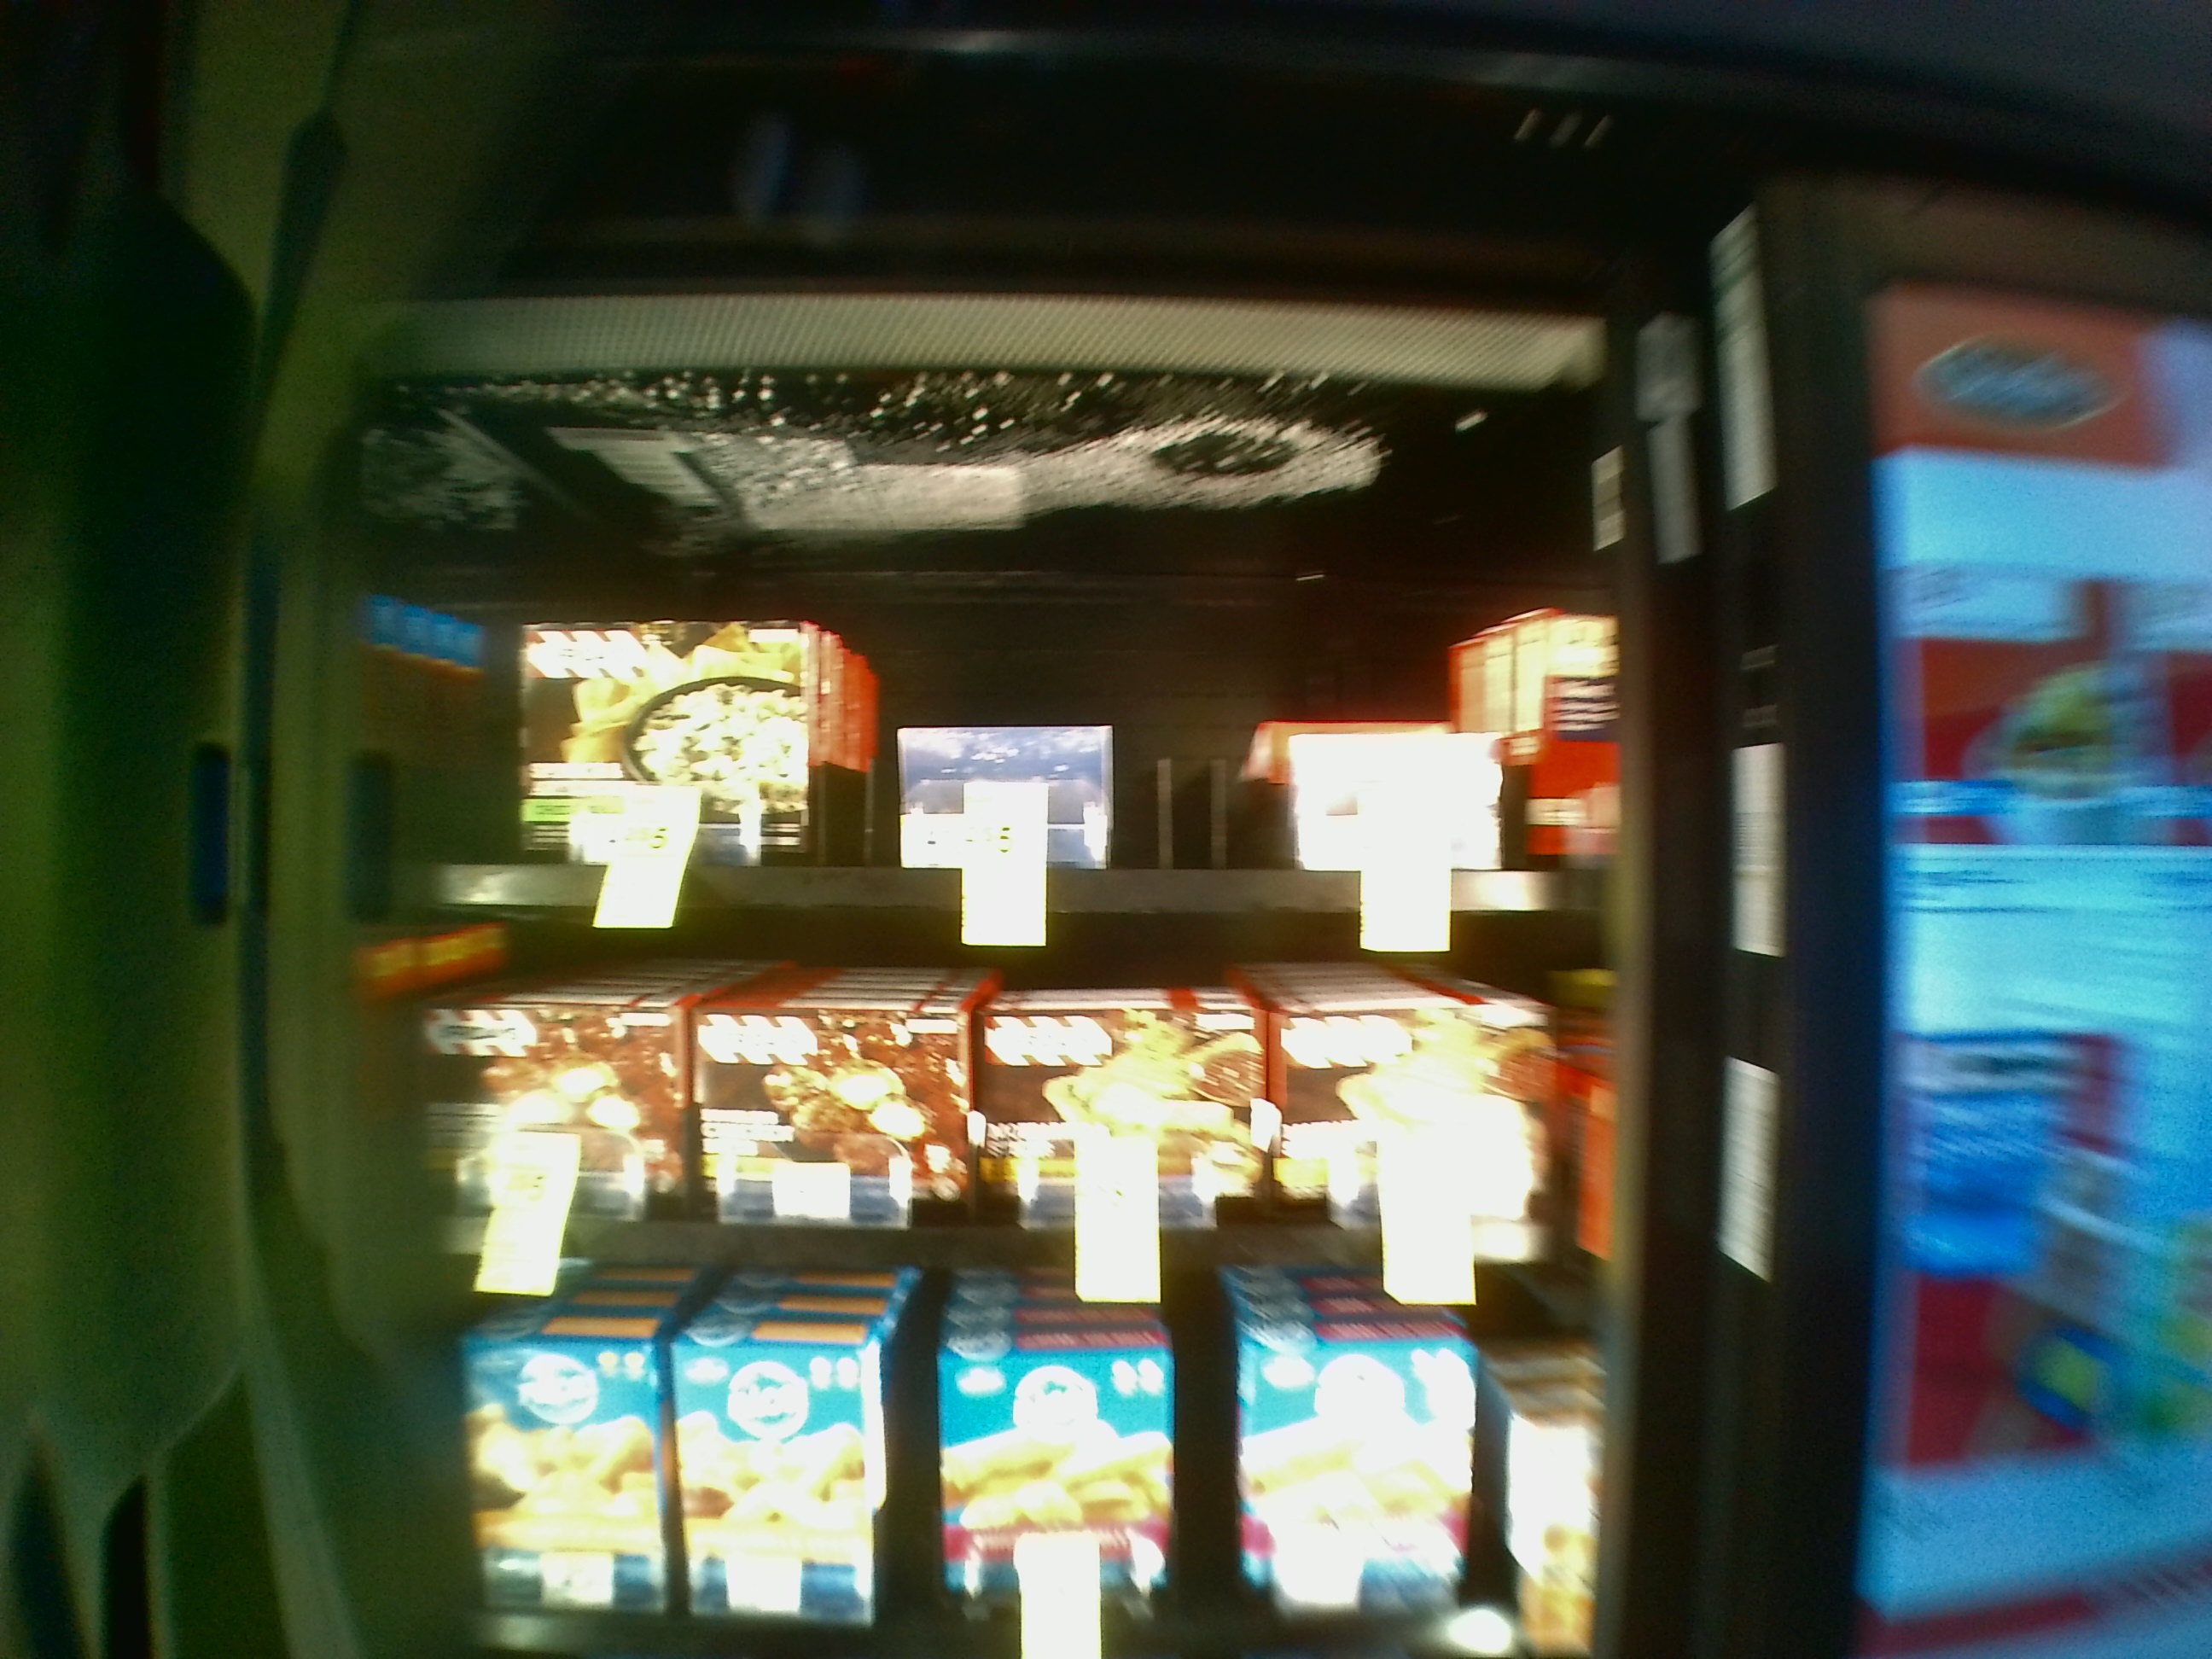shelf: (374, 392, 1609, 918), (371, 939, 1616, 1279)
